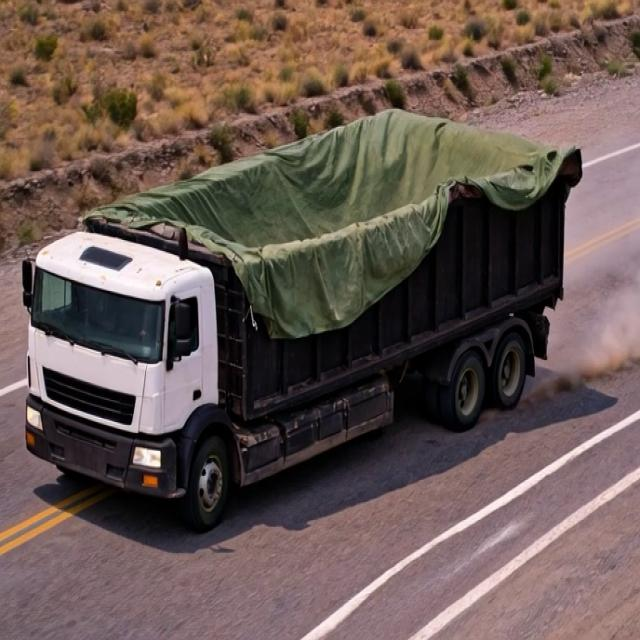Box: (81, 106, 586, 290)
Truck: (24, 74, 607, 515)
